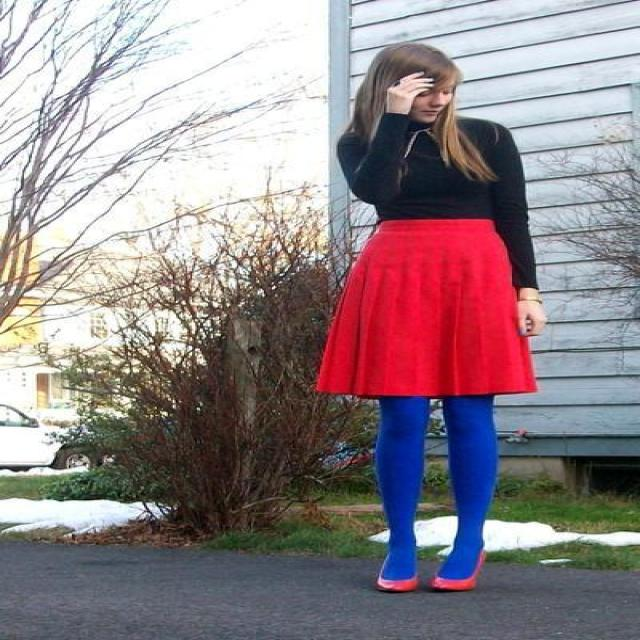shirt: (336, 112, 555, 293)
shoe: (378, 550, 483, 589)
skirt: (316, 218, 542, 396)
